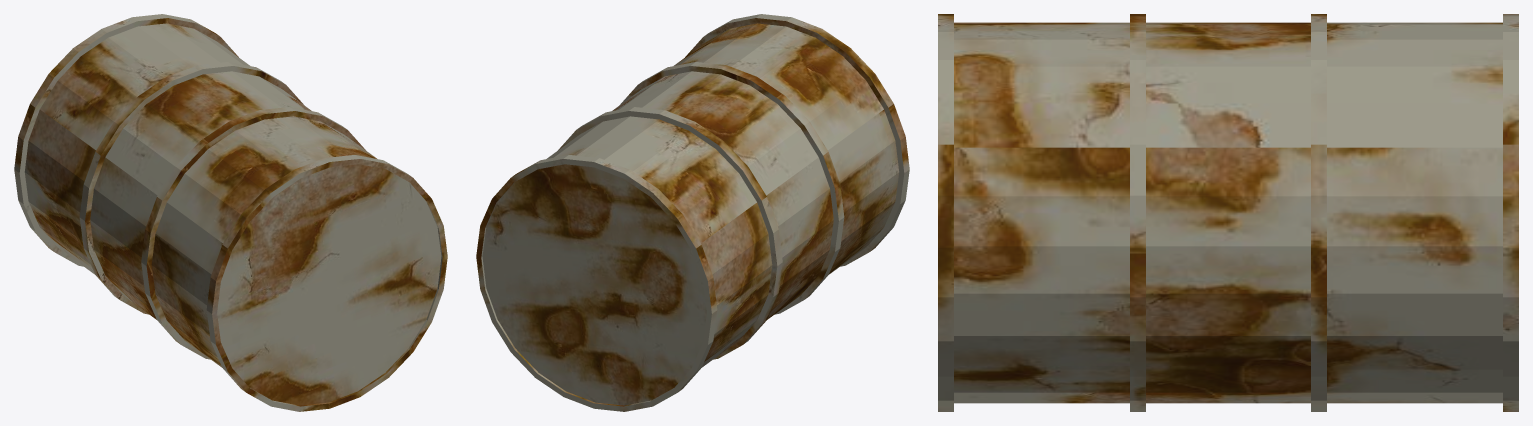
Rendered from UglyBarrel.fbx.
3 views of the same model, side by side, from view 1: azimuth 30°, elevation 25°; view 2: azimuth 150°, elevation 25°; view 3: azimuth 270°, elevation 25° (orthographic). The views are drawn at different scales.
Visible parts, largest first — view 1: UglyBarrel; view 2: UglyBarrel; view 3: UglyBarrel.
Part boxes in pixels (box(x1,y1,x2,y2)): UglyBarrel: box(14, 14, 447, 411); UglyBarrel: box(476, 14, 909, 411); UglyBarrel: box(938, 14, 1518, 411).
Bounding box in the file's own units: 105 × 105 × 152.
1 material, 1 textured.
